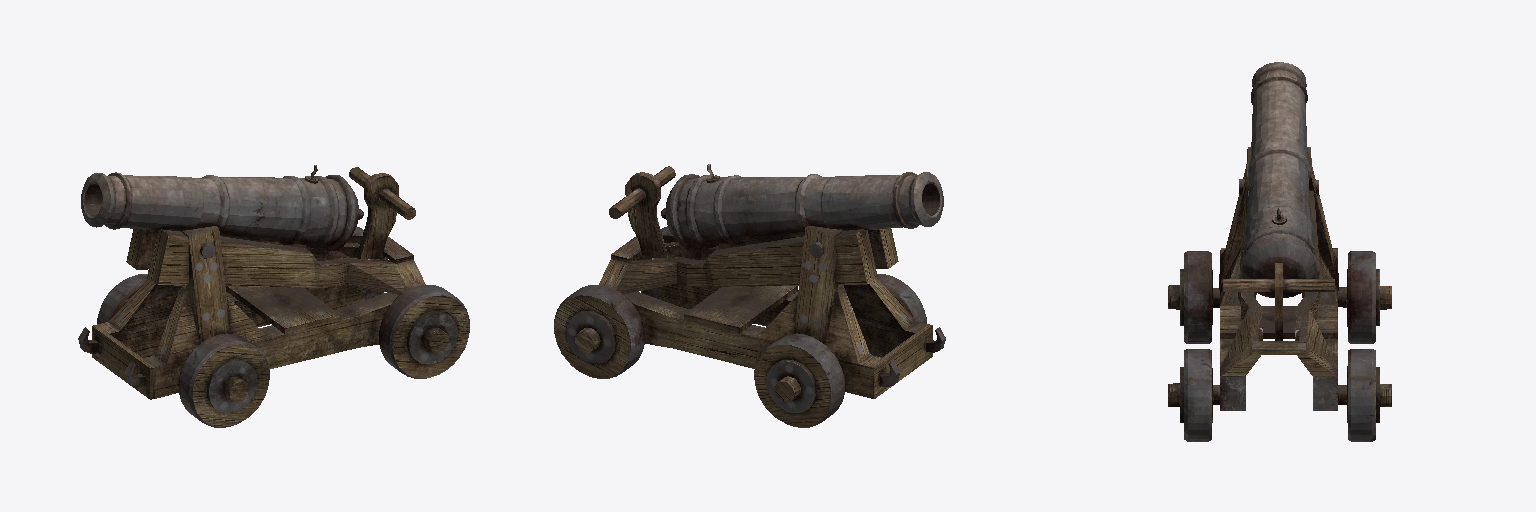
3 renders of one model, left to right at view 1: azimuth 30°, elevation 25°; view 2: azimuth 150°, elevation 25°; view 3: azimuth 270°, elevation 25°, orthographic.
Parts seen in each view (by area): view 1: Object_TexMap_0; view 2: Object_TexMap_0; view 3: Object_TexMap_0.
Part boxes in pixels (bbox=[...]): Object_TexMap_0: bbox=[78, 165, 469, 427]; Object_TexMap_0: bbox=[554, 164, 945, 427]; Object_TexMap_0: bbox=[1168, 62, 1391, 441].
Size of the model in its own units: 2.5 by 1.7 by 1.45.
1 materials, 1 textured.